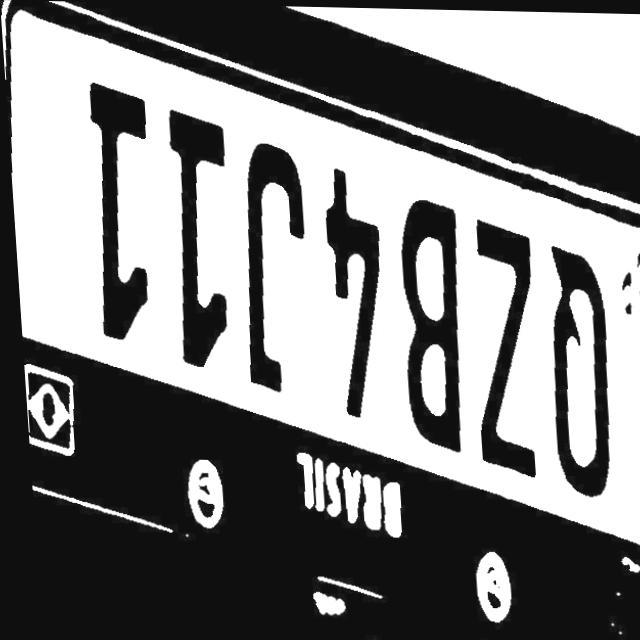1: (78, 83, 157, 338), (154, 112, 231, 365)
4: (310, 174, 389, 418)
b: (389, 199, 469, 452)
j: (225, 143, 311, 389)
q: (534, 254, 613, 503)
z: (465, 223, 534, 478)
